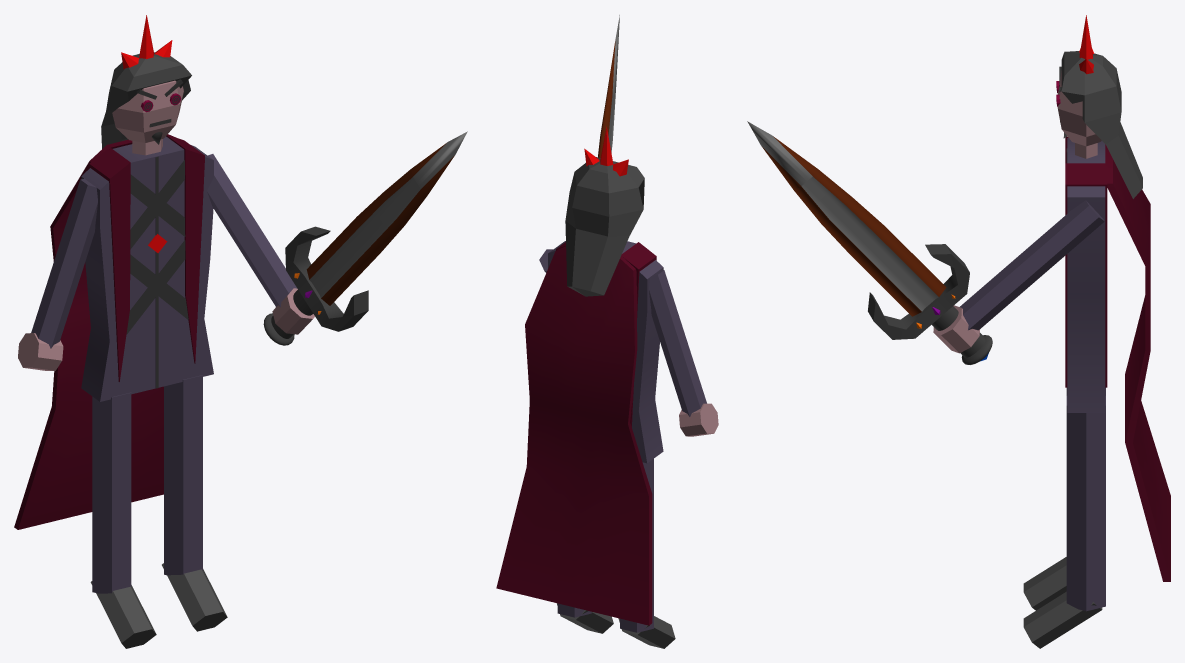
File: LordKazcranak.fbx
The picture shows the model from 3 angles, left to right: view 1: azimuth 30°, elevation 25°; view 2: azimuth 150°, elevation 25°; view 3: azimuth 270°, elevation 25°; orthographic projection. The views are drawn at different scales.
Visible parts, largest first — view 1: pLordKazcranak; view 2: pLordKazcranak; view 3: pLordKazcranak.
Part boxes in pixels (<box>): pLordKazcranak: <box>14,15,467,648</box>; pLordKazcranak: <box>496,15,718,648</box>; pLordKazcranak: <box>747,15,1170,648</box>.
Bounding box in the file's own units: 21.25 × 44.57 × 27.94.
